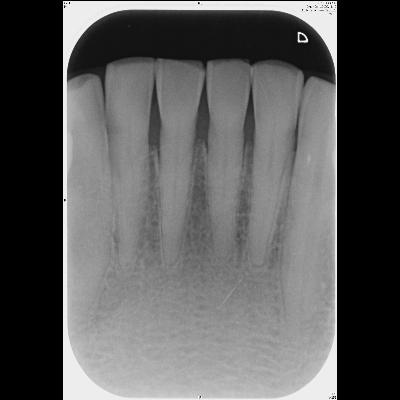tooth: (244, 58, 308, 270), (102, 55, 158, 271), (154, 55, 208, 269), (205, 56, 255, 262)
